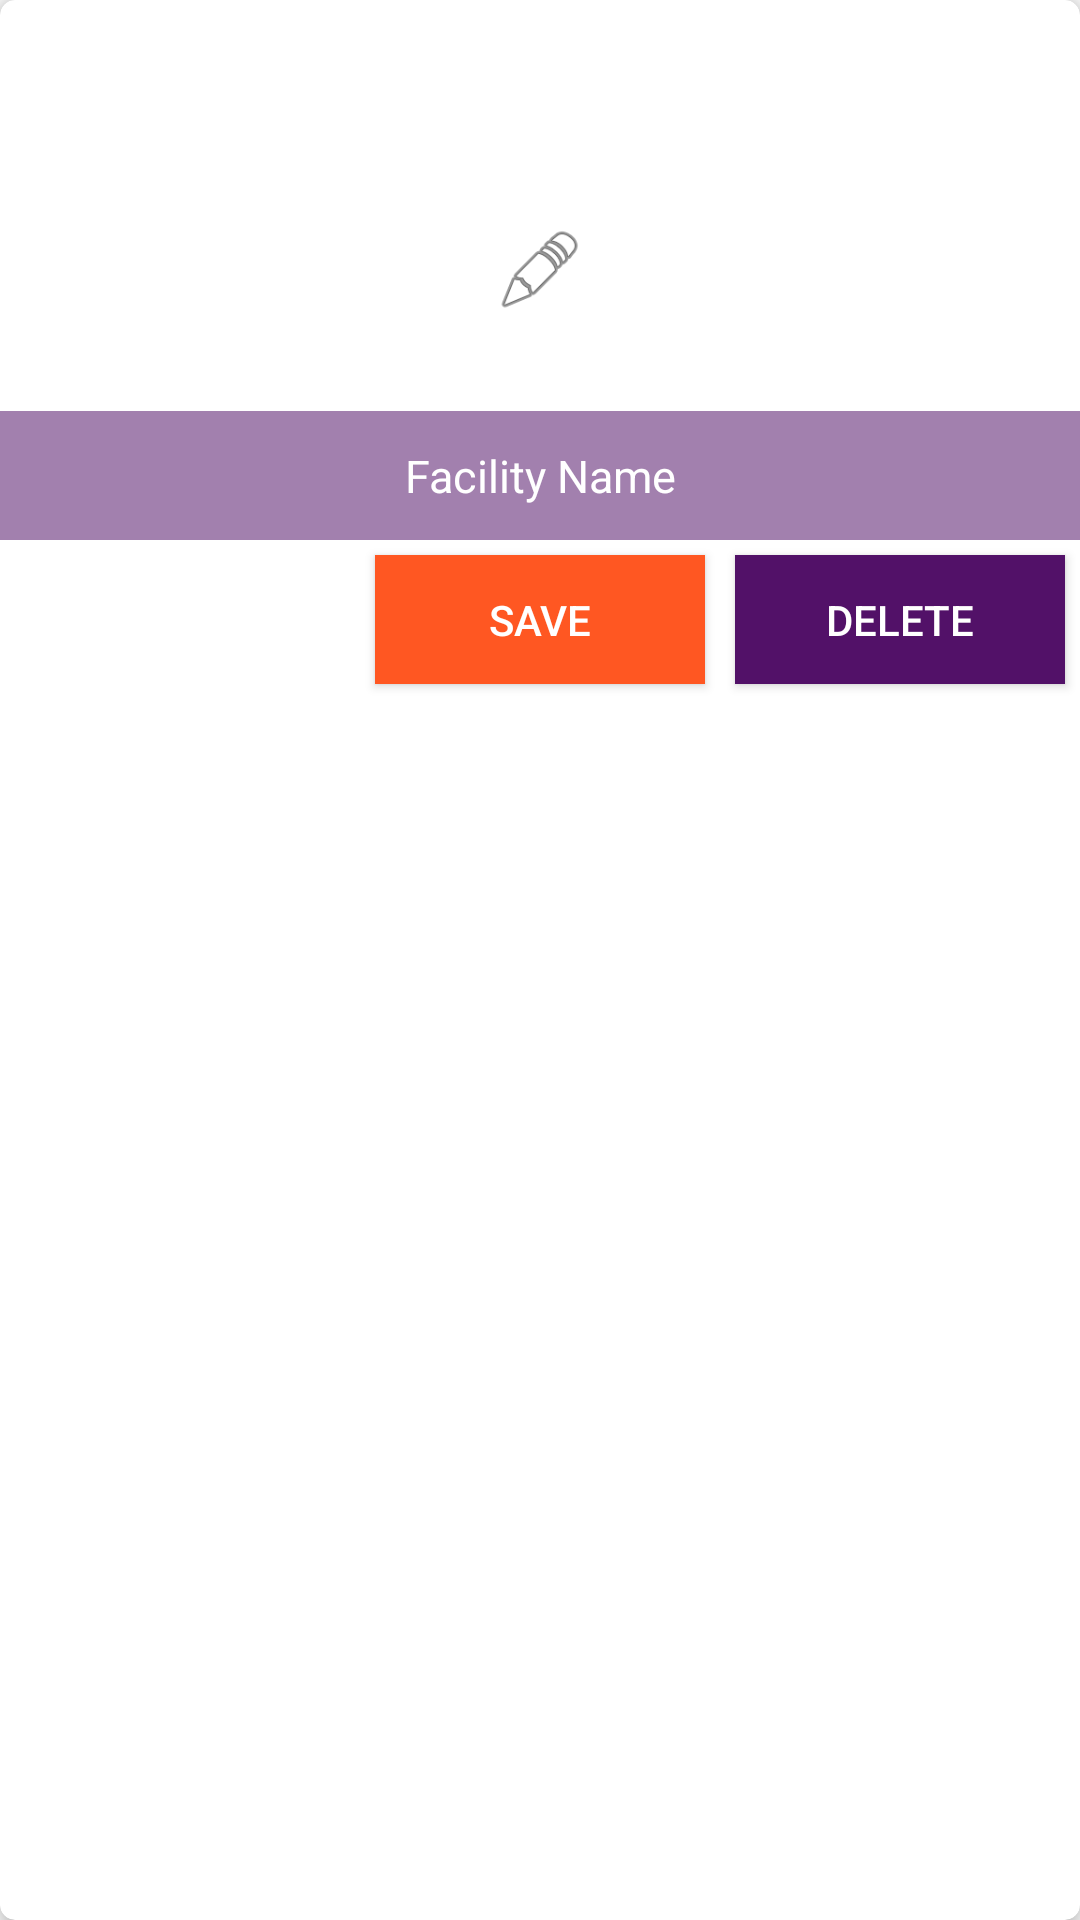

Screen size 1080px×1920px. Icon name, then its box in pixels as [x1,y1,x2,y2]:
edit: [501,231,578,308]
